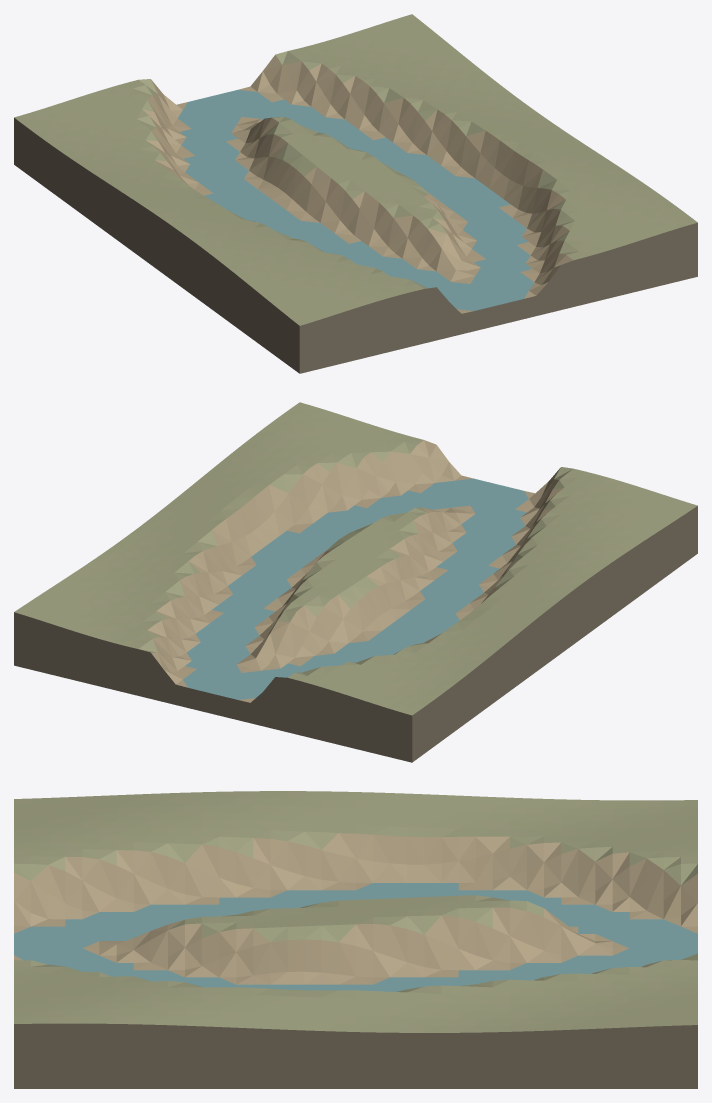
3 renders of one model, top to bottom at view 1: azimuth 30°, elevation 25°; view 2: azimuth 150°, elevation 25°; view 3: azimuth 270°, elevation 25°, orthographic. The views are drawn at different scales.
Visible parts, largest first — view 1: WholeSplitRejoinChannelDryIslandAndOuterBanks; view 2: WholeSplitRejoinChannelDryIslandAndOuterBanks; view 3: WholeSplitRejoinChannelDryIslandAndOuterBanks.
Boxes of the visible parts, bbox=[...] form: WholeSplitRejoinChannelDryIslandAndOuterBanks: bbox=[14, 14, 697, 373]; WholeSplitRejoinChannelDryIslandAndOuterBanks: bbox=[14, 402, 697, 762]; WholeSplitRejoinChannelDryIslandAndOuterBanks: bbox=[14, 791, 697, 1088].
Size of the model in its own units: 3.7 by 0.485 by 4.6.
